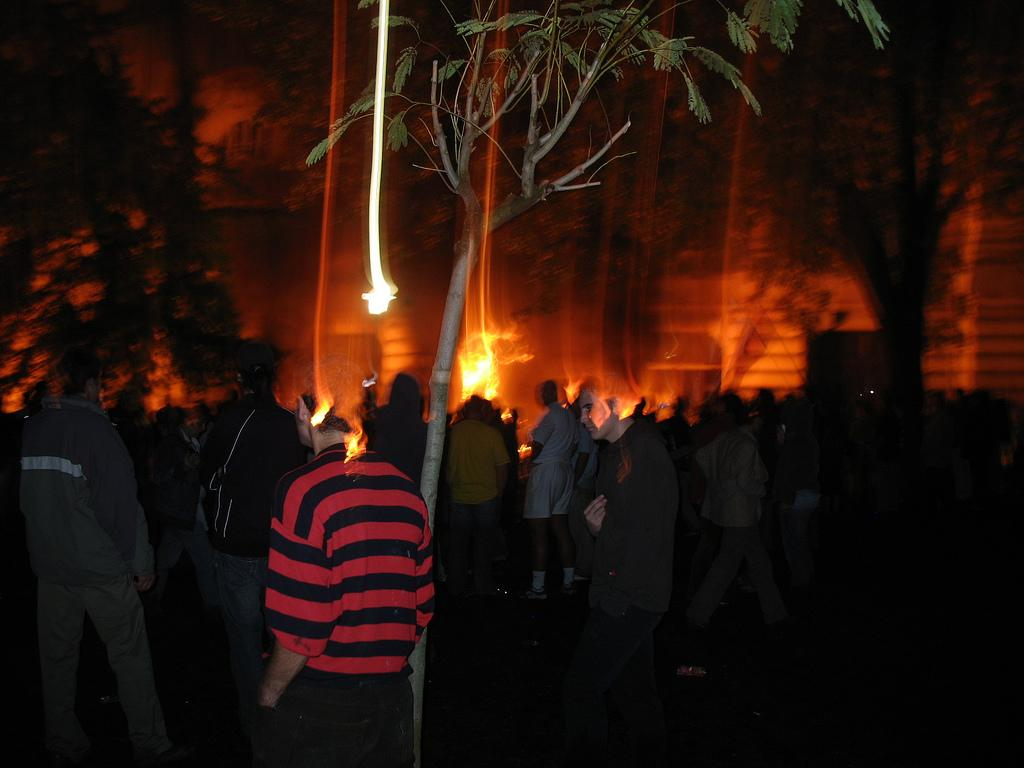fire: (462, 352, 496, 388)
